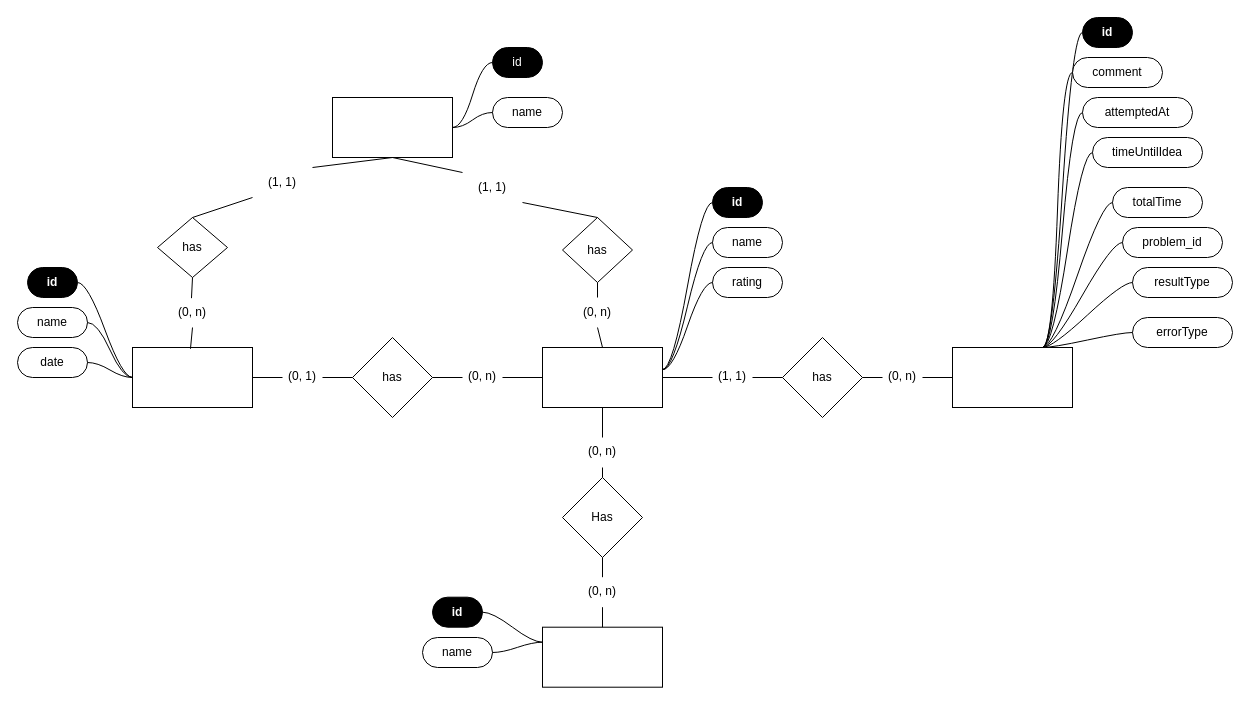
Some shapes in this 1250 by 705 pixel diagram are drawn without their labels. The centre of each missing label's shape, as x and y in pixels:
Attempt: pixel 1012 377
Contest: pixel 192 377
Platform: pixel 392 127
Problem: pixel 602 377
Tag: pixel 602 656
